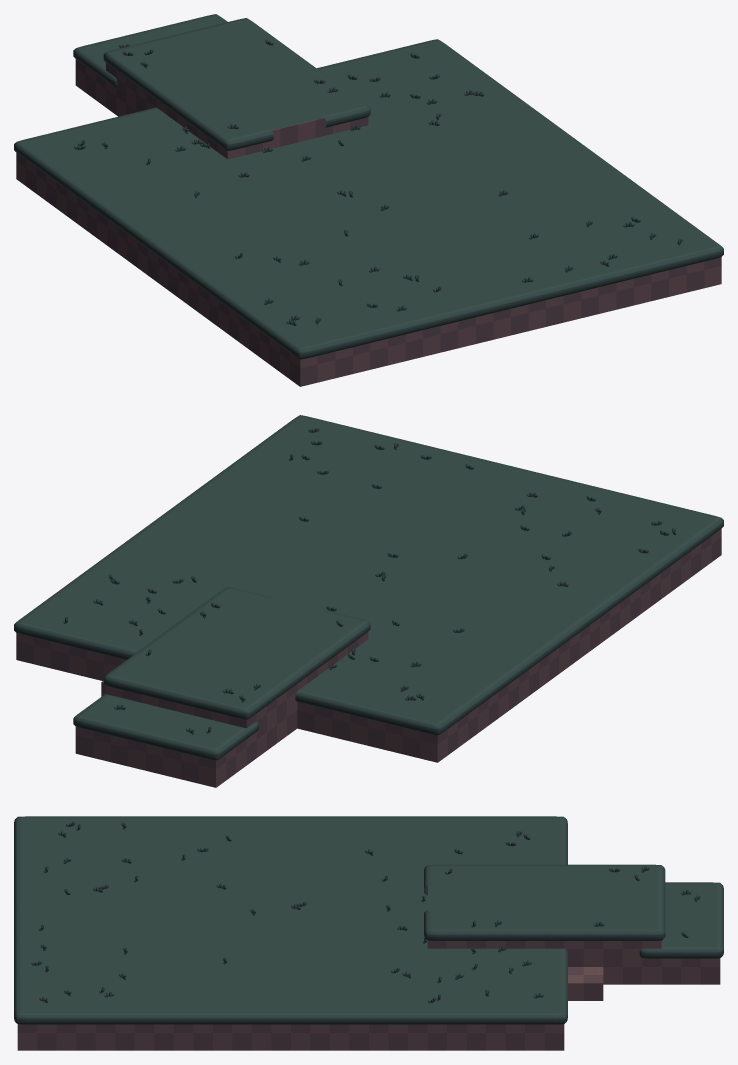
File: cemetery_map.fbx
3 views of the same model, one above another, from view 1: azimuth 30°, elevation 25°; view 2: azimuth 150°, elevation 25°; view 3: azimuth 270°, elevation 25° (orthographic). The views are drawn at different scales.
Parts seen in each view (by area): view 1: grass_top_1x1_tile_half_top5, ground_block_2x2x2_bottom186, grass_LOD68; view 2: grass_top_1x1_tile_half_top5, ground_block_2x2x2_bottom186, grass_LOD68; view 3: grass_top_1x1_tile_half_top5, ground_block_2x2x2_bottom186, grass_LOD68.
Boxes of the visible parts, left/top/right/bottom form: grass_top_1x1_tile_half_top5: left=14, top=14, right=723, bottom=359; ground_block_2x2x2_bottom186: left=16, top=59, right=721, bottom=386; grass_LOD68: left=74, top=39, right=682, bottom=325; grass_top_1x1_tile_half_top5: left=14, top=415, right=723, bottom=760; ground_block_2x2x2_bottom186: left=16, top=529, right=721, bottom=787; grass_LOD68: left=63, top=428, right=676, bottom=734; grass_top_1x1_tile_half_top5: left=14, top=816, right=723, bottom=1024; ground_block_2x2x2_bottom186: left=17, top=940, right=720, bottom=1050; grass_LOD68: left=31, top=821, right=700, bottom=1003.
Size of what is drawn, in the model's own units: 2437 by 323 by 3637.
